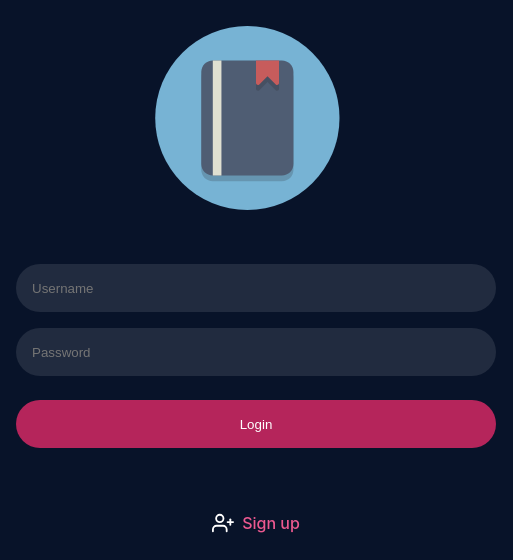
Should show error messages for required fields
In the field with placeholder "Username": (256, 288) [16,264,496,312], type "user@user.com"
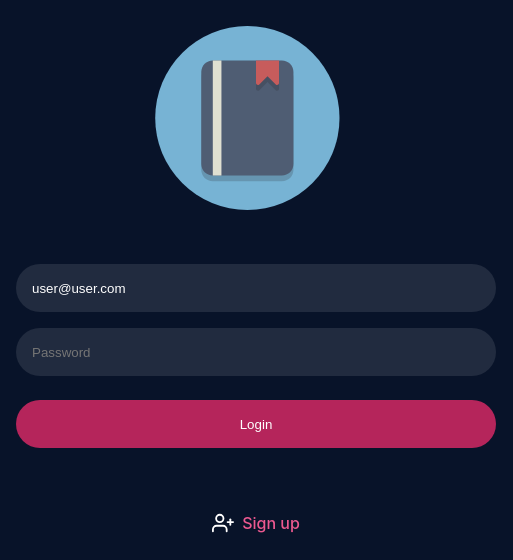
Click the button "Login": click(256, 424) [16,400,496,448]
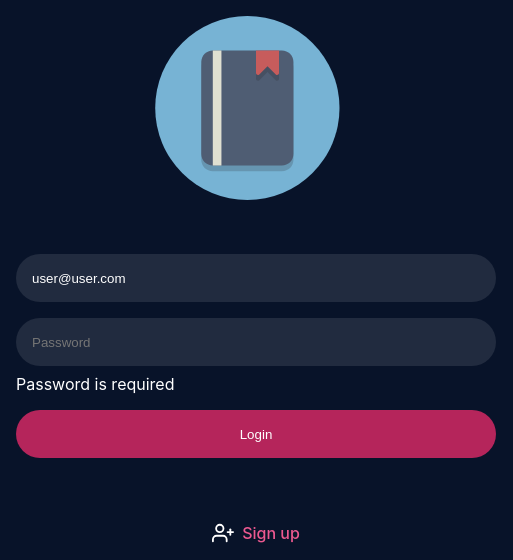
Expected: the password field with placeholder "Password" is empty, [16,318,496,366]
Expected: the text "Password is required" is shown, [16,374,174,394]
